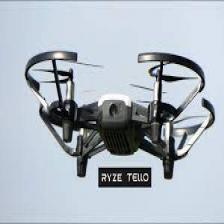drone: (41, 47, 184, 182)
